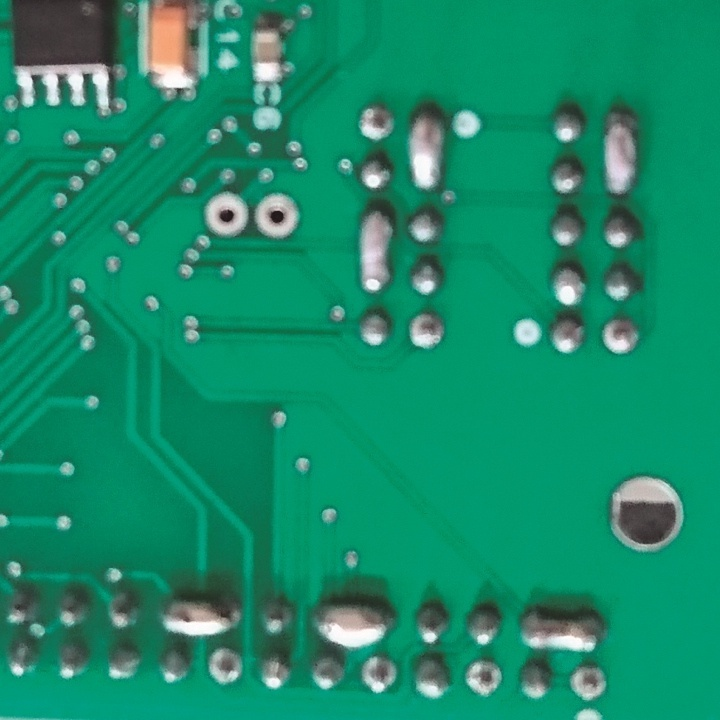F: (253, 194, 300, 240), (204, 190, 253, 234), (566, 660, 609, 703), (207, 643, 247, 689), (464, 654, 504, 699), (599, 315, 641, 356), (407, 309, 446, 349), (361, 652, 396, 695), (359, 103, 395, 142)
P: (521, 608, 604, 653), (159, 591, 240, 637), (599, 108, 640, 197), (310, 600, 393, 643), (405, 106, 444, 193), (359, 205, 394, 293)
